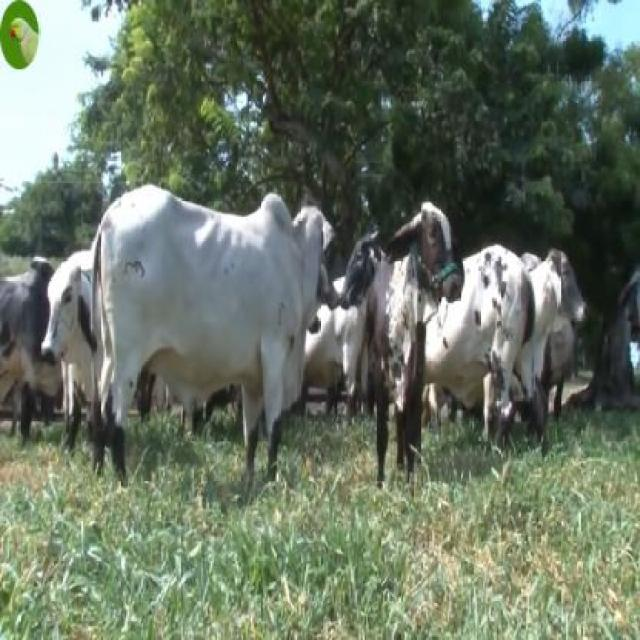Cow: (95, 180, 328, 488)
